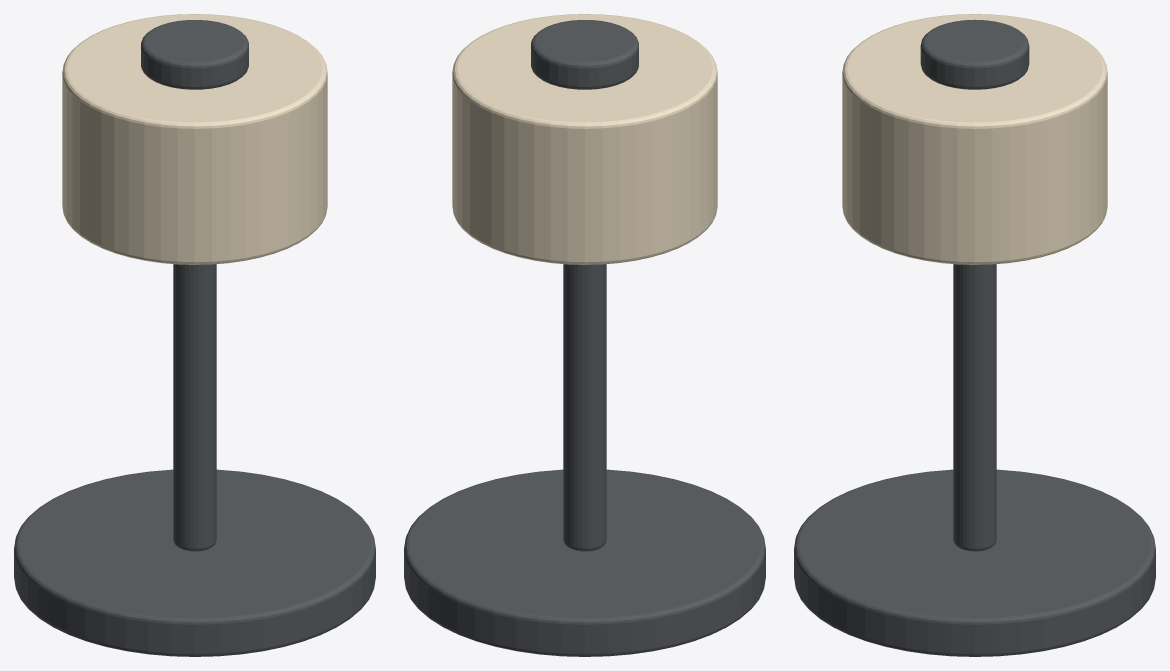
File: minimal-desk-lamp-01.glb
3 views of the same model, side by side, from view 1: azimuth 30°, elevation 25°; view 2: azimuth 150°, elevation 25°; view 3: azimuth 270°, elevation 25° (orthographic).
Parts seen in each view (by area): view 1: minimal-desk-lamp-01; view 2: minimal-desk-lamp-01; view 3: minimal-desk-lamp-01.
Boxes of the visible parts, bbox=[...] form: minimal-desk-lamp-01: bbox=[14, 14, 375, 656]; minimal-desk-lamp-01: bbox=[404, 14, 765, 656]; minimal-desk-lamp-01: bbox=[794, 14, 1155, 656].
Size of the model in its own units: 0.3 by 0.495 by 0.3.
